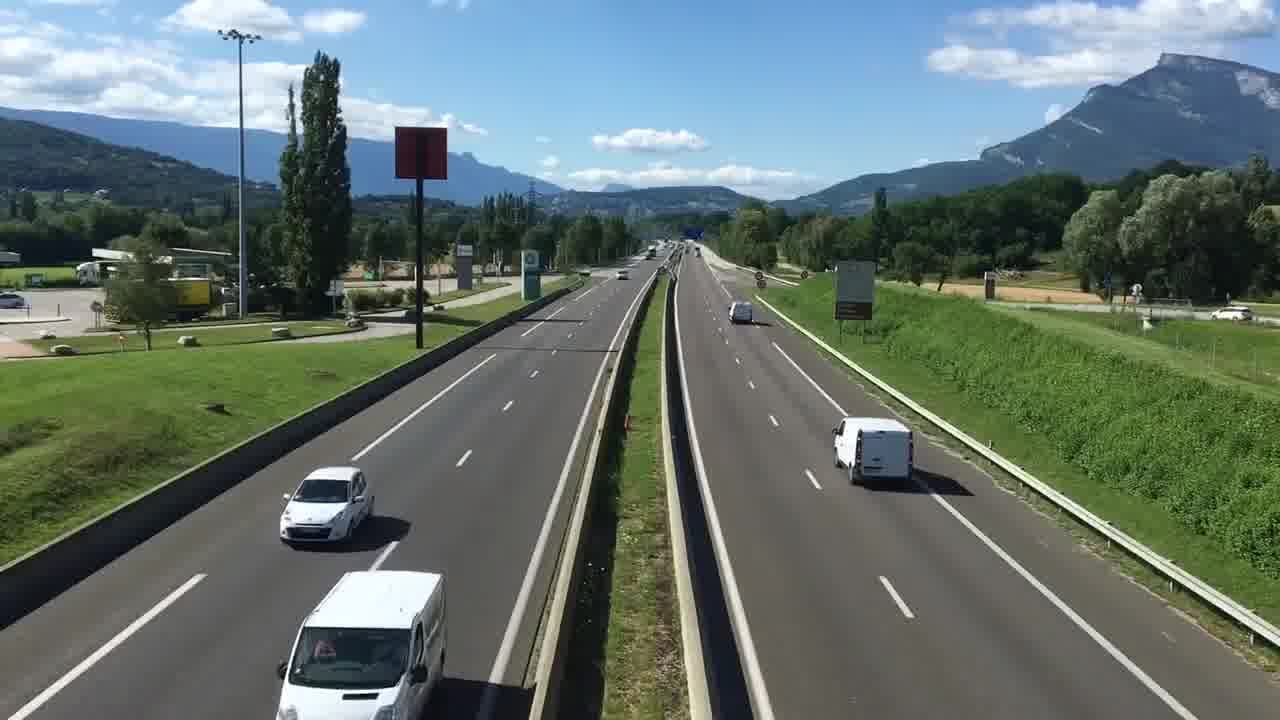car: (267, 454, 373, 537)
